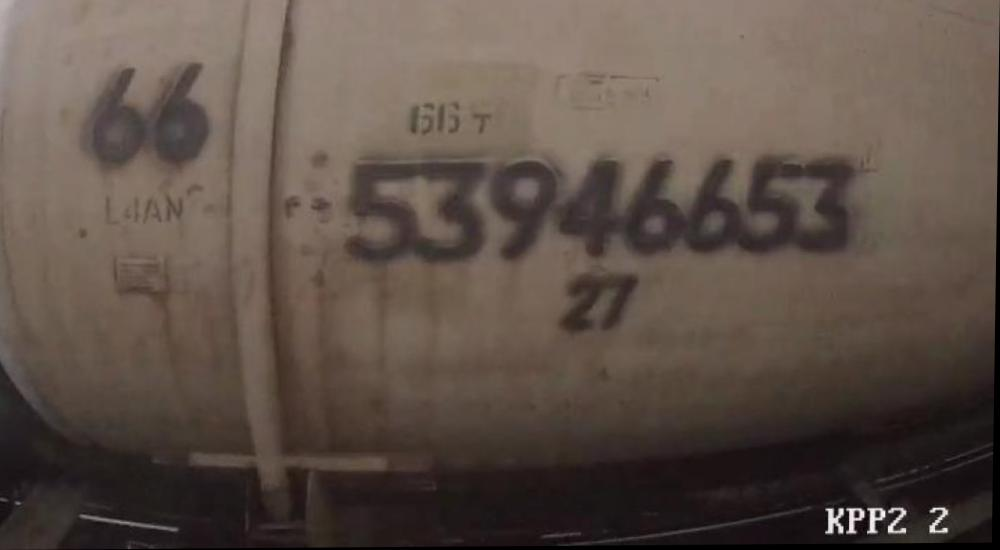Wagon-number: (343, 151, 862, 272)
